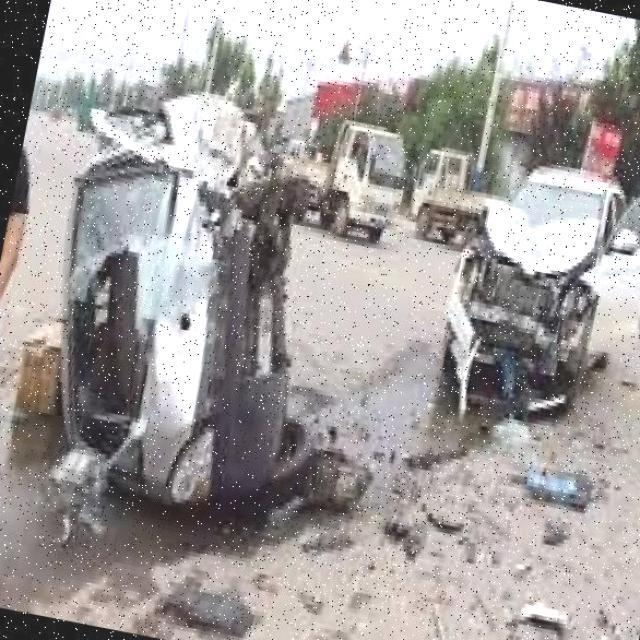accident: (4, 60, 416, 577), (406, 98, 640, 466)
